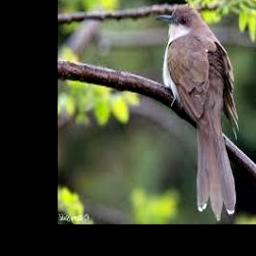Cuckoo: (156, 4, 240, 220)
